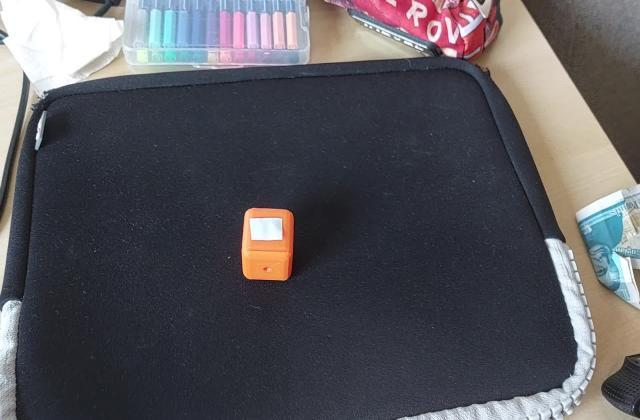sticker: (238, 205, 298, 284)
white: (248, 215, 286, 246)
